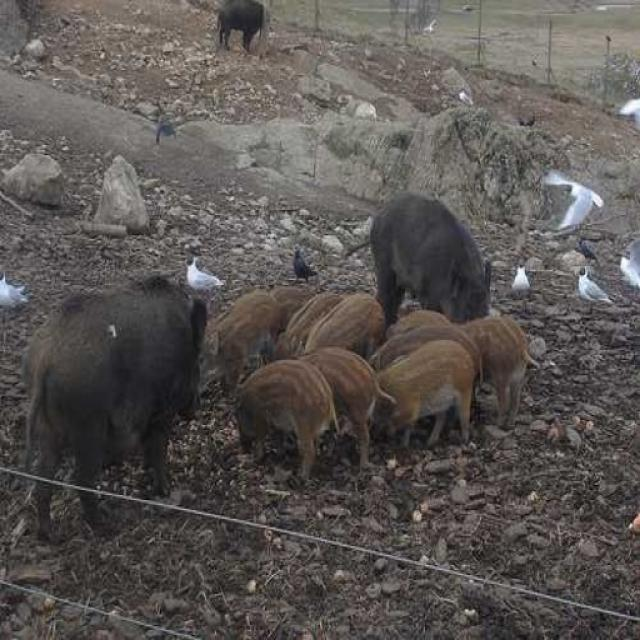pig: (15, 218, 227, 557), (356, 161, 490, 343), (372, 321, 491, 450), (250, 334, 330, 470), (294, 314, 384, 412), (476, 323, 566, 409), (288, 266, 361, 364), (220, 264, 272, 364)
